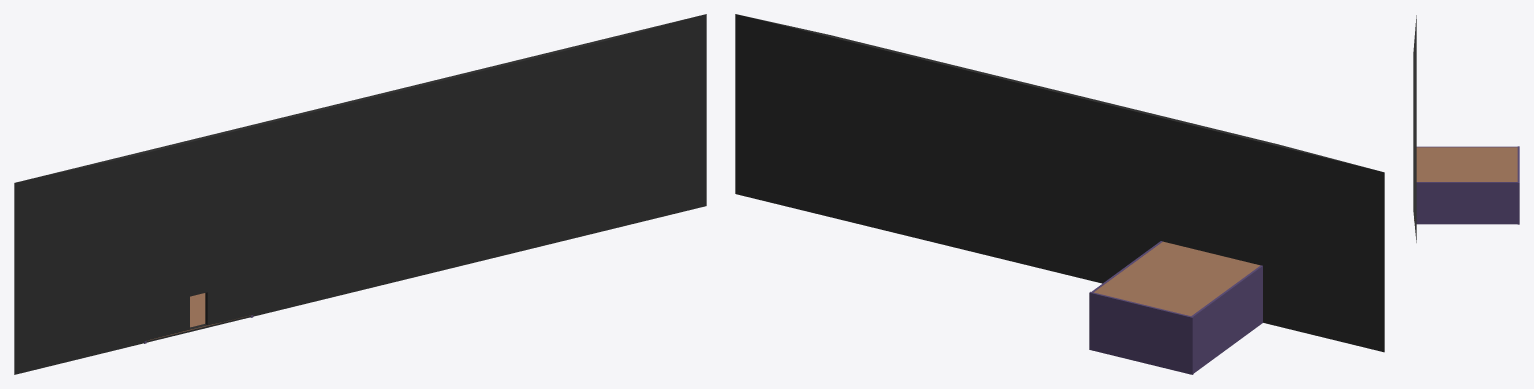
Rendered from BIGPLANT_1_wall__w_door_frame.obj.
3 renders of one model, left to right at view 1: azimuth 30°, elevation 25°; view 2: azimuth 150°, elevation 25°; view 3: azimuth 270°, elevation 25°, orthographic. The views are drawn at different scales.
Parts seen in each view (by area): view 1: movable_wall; view 2: movable_wall; view 3: movable_wall.
Boxes of the visible parts, x1=… form: movable_wall: x1=14, y1=14, x2=706, y2=374; movable_wall: x1=735, y1=14, x2=1384, y2=374; movable_wall: x1=1413, y1=15, x2=1519, y2=242.
Bounding box in the file's own units: 86.84 × 23.05 × 16.92.
